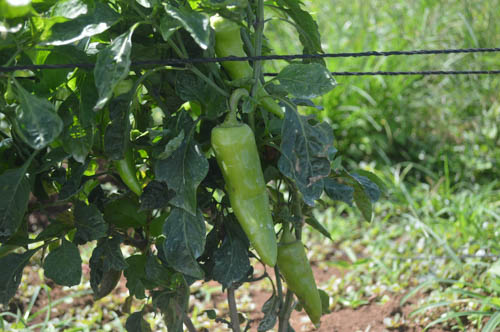ChiliPepper: (215, 126, 278, 268), (212, 19, 282, 114), (275, 242, 322, 320), (115, 154, 142, 200)
